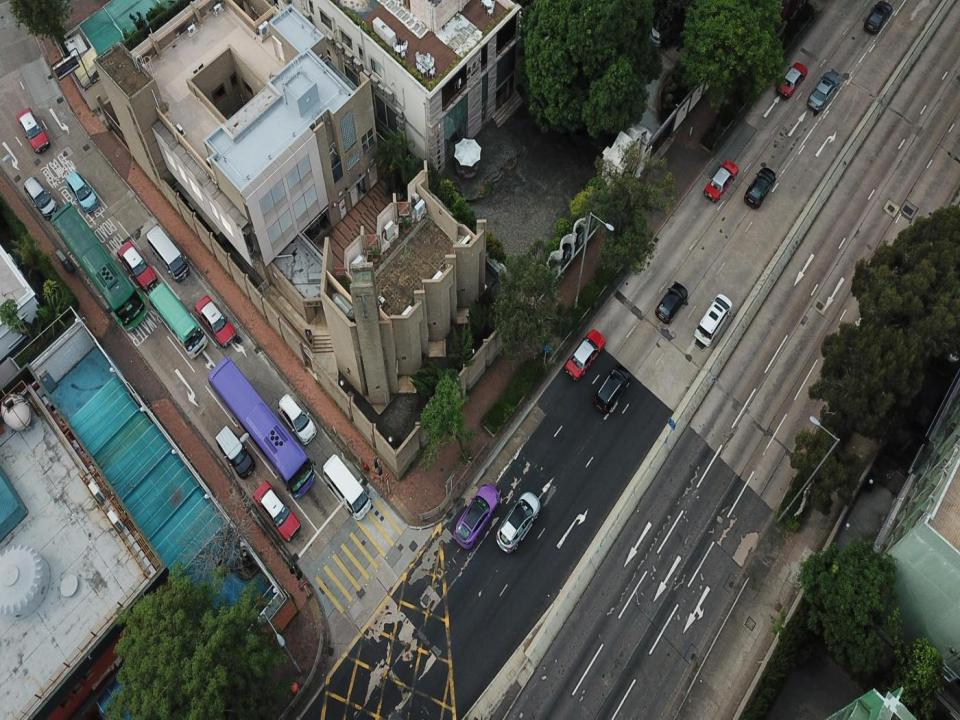bus: (209, 356, 317, 496), (50, 202, 147, 332), (147, 279, 207, 359)
car: (252, 479, 300, 541), (455, 485, 499, 547), (496, 491, 540, 552), (194, 296, 237, 348), (563, 330, 606, 380), (276, 393, 317, 445), (215, 425, 255, 478), (117, 241, 157, 292), (595, 365, 631, 412), (66, 169, 99, 213), (703, 161, 739, 201), (18, 107, 50, 152), (743, 169, 777, 210), (655, 282, 687, 322), (807, 71, 839, 110), (776, 62, 807, 99), (864, 0, 892, 37)
van: (322, 452, 371, 519), (145, 225, 189, 282), (694, 294, 731, 346), (23, 175, 56, 218)
